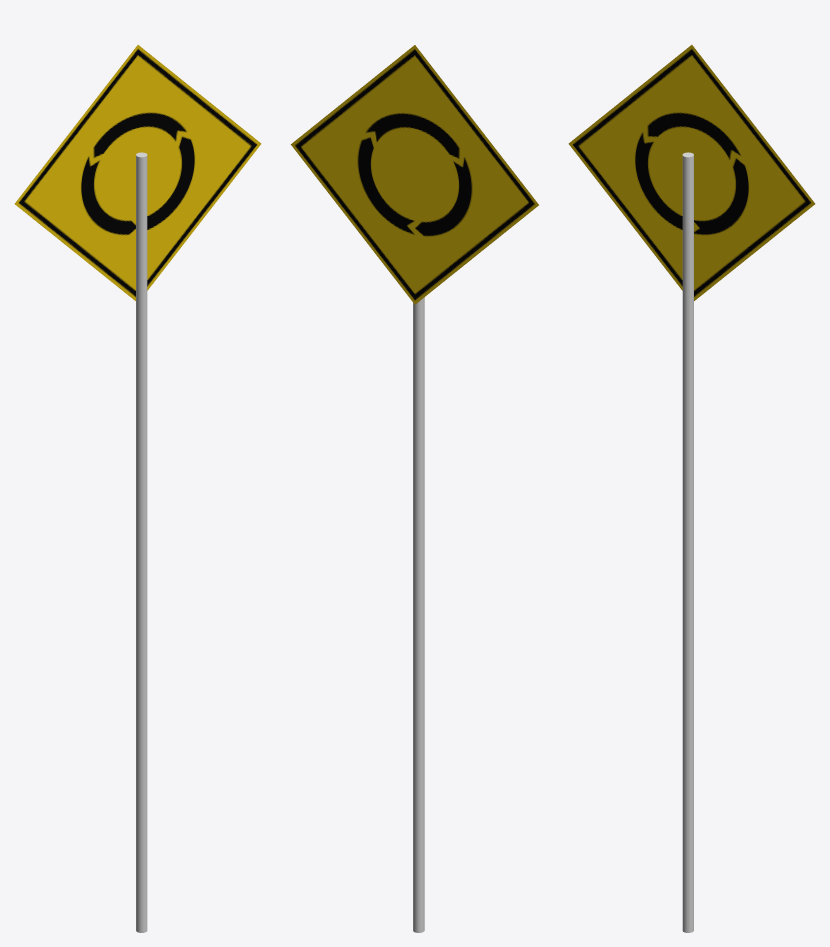
Rendered from roundabout.fbx.
3 renders of one model, left to right at view 1: azimuth 30°, elevation 25°; view 2: azimuth 150°, elevation 25°; view 3: azimuth 330°, elevation 25°, orthographic.
Parts seen in each view (by area): view 1: Plane, Cylinder; view 2: Plane, Cylinder; view 3: Plane, Cylinder.
Boxes of the visible parts, x1,y1,x2,y2 form: Plane: [14, 45, 261, 300]; Cylinder: [136, 152, 147, 932]; Plane: [291, 45, 538, 304]; Cylinder: [413, 297, 424, 932]; Plane: [568, 45, 815, 300]; Cylinder: [682, 152, 693, 932].
Bounding box in the file's own units: 200 × 682 × 9.27.
